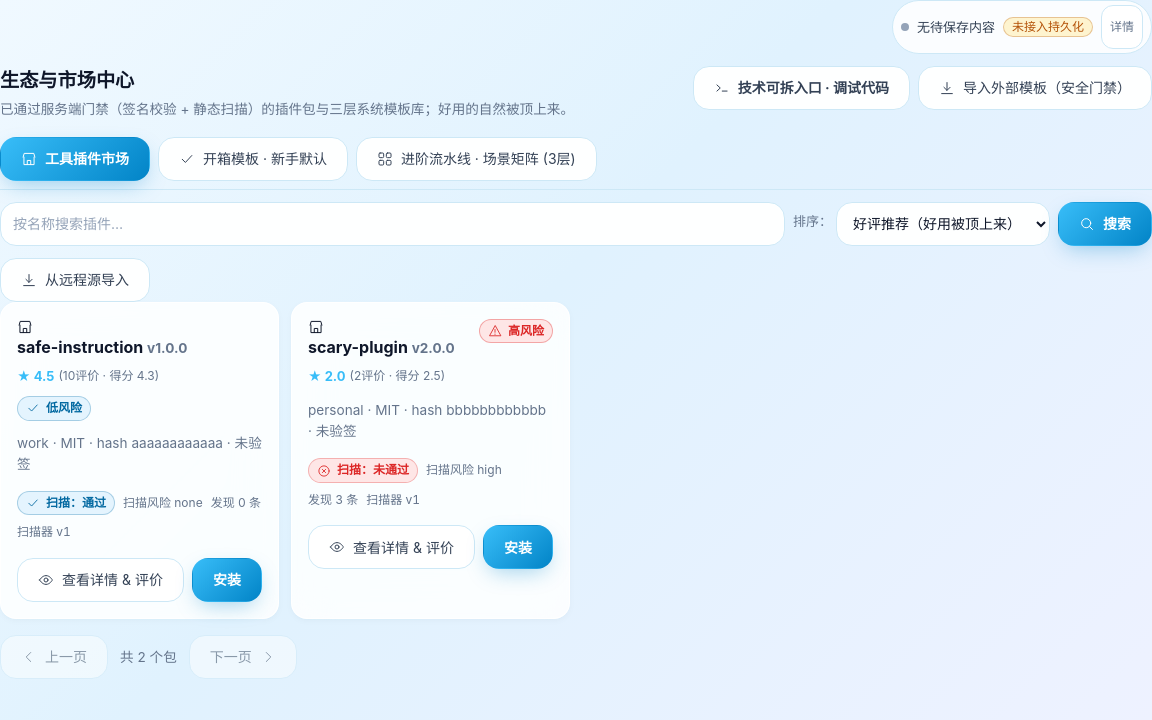
Test: PluginMarketPage 详情与安装 › 安装失败（如缺授权）显式展示错误，绝不假装成功
Click the button with test id "plugin-detail-sk-low" at (100, 580), box 17,558 -> 184,602
(page scrolled)
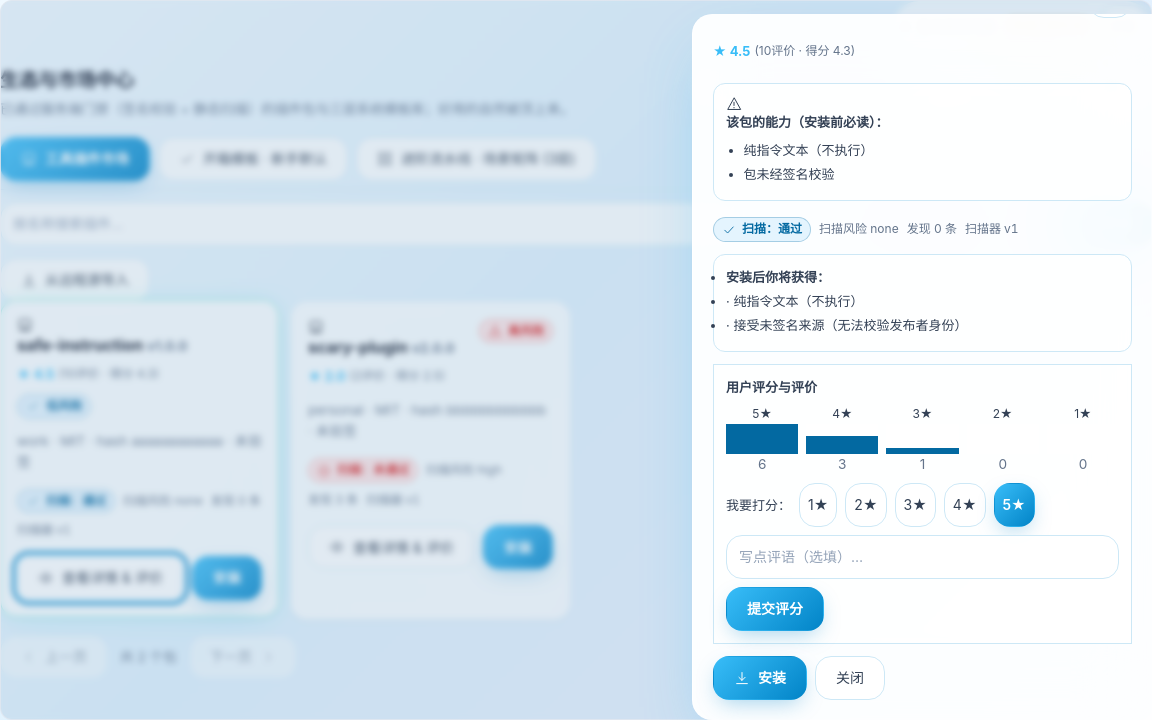
Click the button with test id "plugin-detail-install" at (760, 678), box 713,656 -> 807,700
(page scrolled)
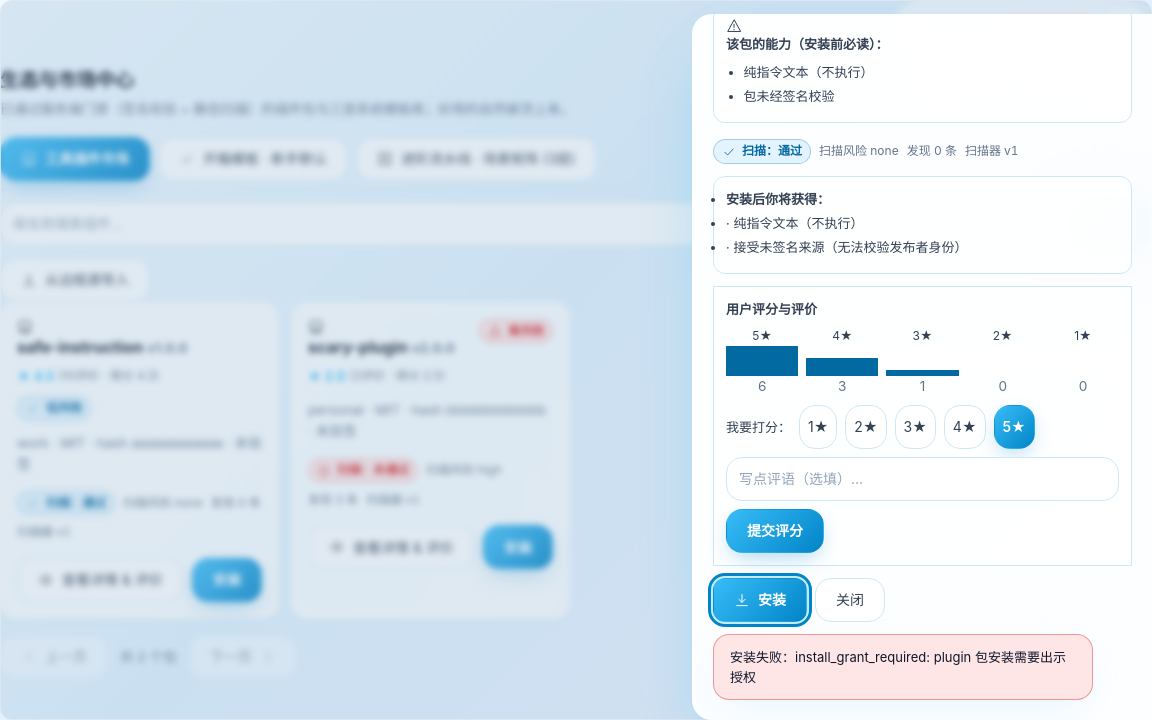
Check: the message with test id "plugin-install-note" shows "安装失败", box 730,649 -> 1066,685
Check: the message with test id "plugin-install-note" shows "install_grant_required", box 730,649 -> 1066,685
